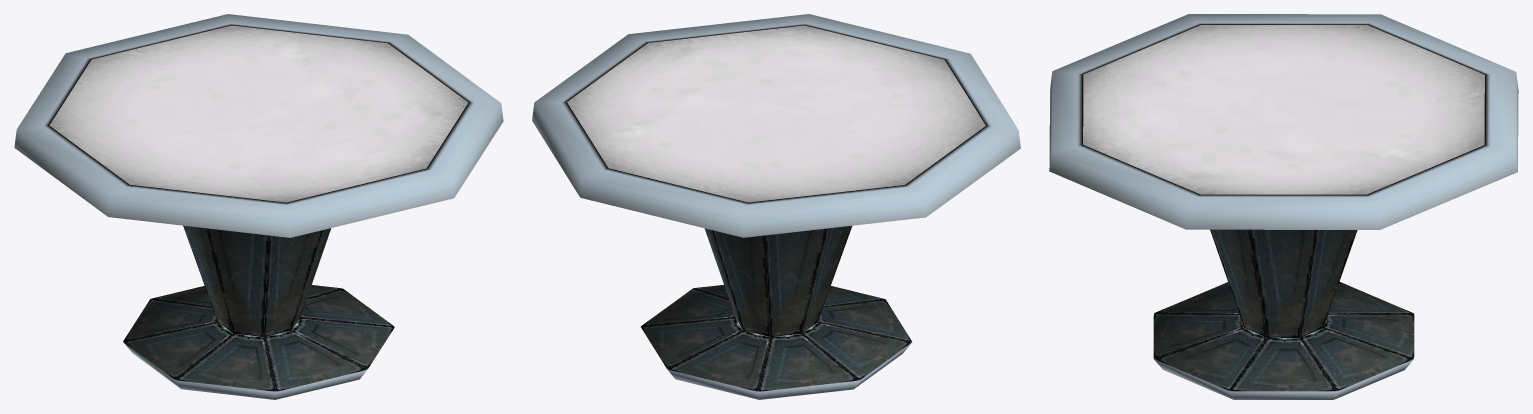
File: thm_frn_table_s03_l2.fbx
The picture shows the model from 3 angles, left to right: view 1: azimuth 30°, elevation 25°; view 2: azimuth 150°, elevation 25°; view 3: azimuth 270°, elevation 25°; orthographic projection. The views are drawn at different scales.
Visible parts, largest first — view 1: mesh_node; view 2: mesh_node; view 3: mesh_node.
Boxes of the visible parts, x1,y1,x2,y2 form: mesh_node: [14, 14, 503, 399]; mesh_node: [532, 14, 1020, 399]; mesh_node: [1049, 14, 1518, 399].
Bounding box in the file's own units: 1.33 × 0.7503 × 1.33.
1 material, 1 textured.
